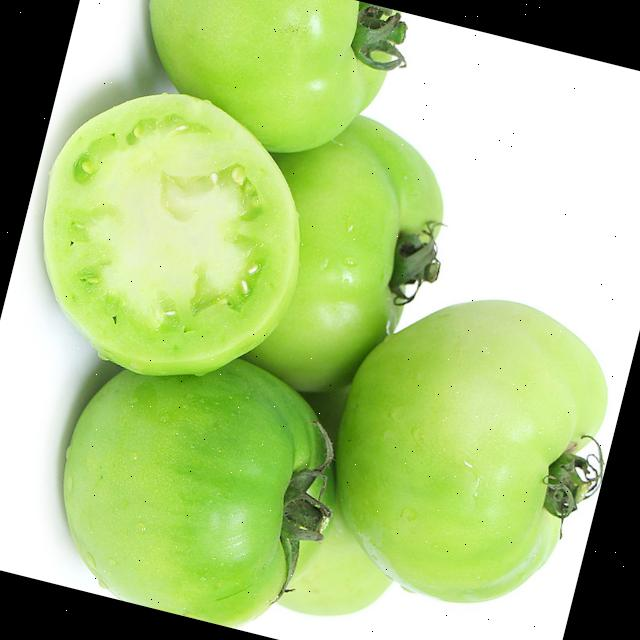tomato: (299, 263, 623, 640), (29, 318, 350, 640), (122, 0, 417, 163)
